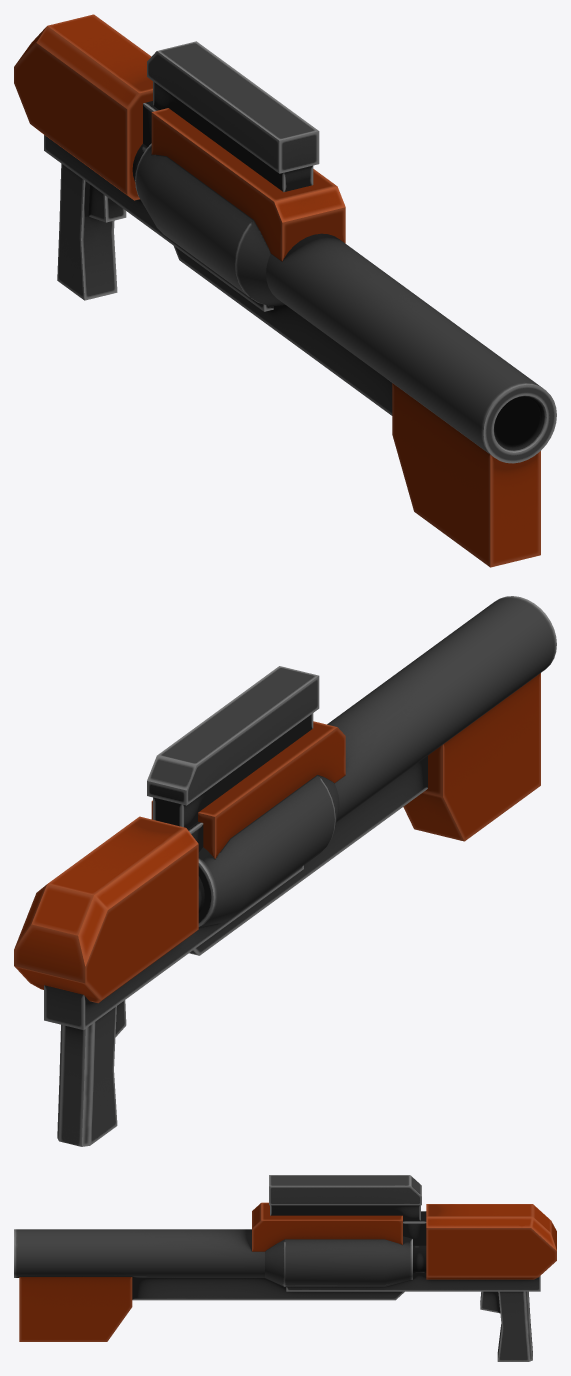
Rendered from bazooka.glb.
3 views of the same model, one above another, from view 1: azimuth 30°, elevation 25°; view 2: azimuth 150°, elevation 25°; view 3: azimuth 270°, elevation 25° (orthographic). The views are drawn at different scales.
Visible parts, largest first — view 1: Cube.014; view 2: Cube.014; view 3: Cube.014.
Boxes of the visible parts, x1,y1,x2,y2 form: Cube.014: [14, 14, 556, 567]; Cube.014: [14, 596, 556, 1146]; Cube.014: [14, 1175, 556, 1361].
Bounding box in the file's own units: 0.16 × 0.4675 × 1.3.
1 material, 1 textured.
